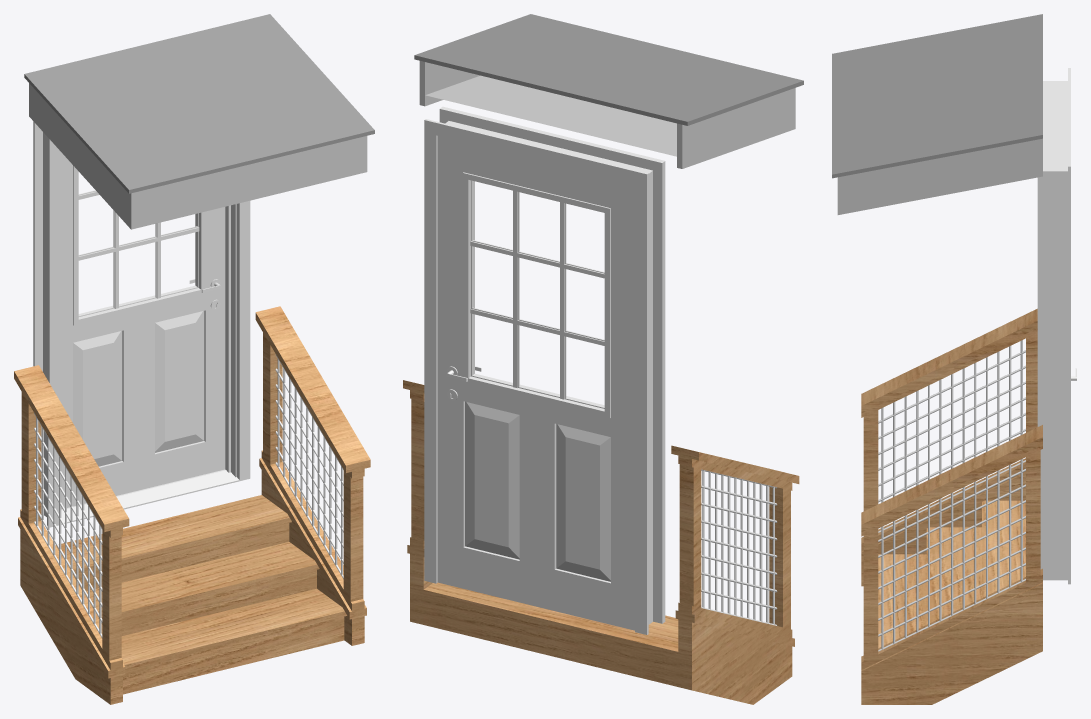
File: ext-door-3.glb
The picture shows the model from 3 angles, left to right: view 1: azimuth 30°, elevation 25°; view 2: azimuth 150°, elevation 25°; view 3: azimuth 270°, elevation 25°; orthographic projection. The views are drawn at different scales.
Parts seen in each view (by area): view 1: stair-wood, door-white, stair- Rooftop, stair- Roofsiding, stair-metal; view 2: door-white, stair-wood, stair- Rooftop, stair- Roofsiding, stair-metal; view 3: stair-wood, stair- Rooftop, door-white, stair-metal, stair- Roofsiding.
Boxes of the visible parts, x1,y1,x2,y2 form: stair-wood: [14, 306, 370, 704]; door-white: [33, 121, 250, 527]; stair- Rooftop: [24, 14, 374, 193]; stair- Roofsiding: [29, 83, 367, 229]; stair-metal: [34, 354, 343, 637]; door-white: [424, 106, 665, 634]; stair-wood: [403, 380, 799, 704]; stair- Rooftop: [414, 14, 803, 125]; stair- Roofsiding: [419, 61, 795, 168]; stair-metal: [701, 469, 777, 625]; stair-wood: [861, 308, 1042, 704]; stair- Rooftop: [832, 14, 1042, 178]; door-white: [1037, 68, 1070, 584]; stair-metal: [878, 340, 1025, 651]; stair- Roofsiding: [837, 138, 1042, 214].
Bounding box in the file's own units: 1.42 × 2.87 × 1.12.
8 materials, 1 textured.
